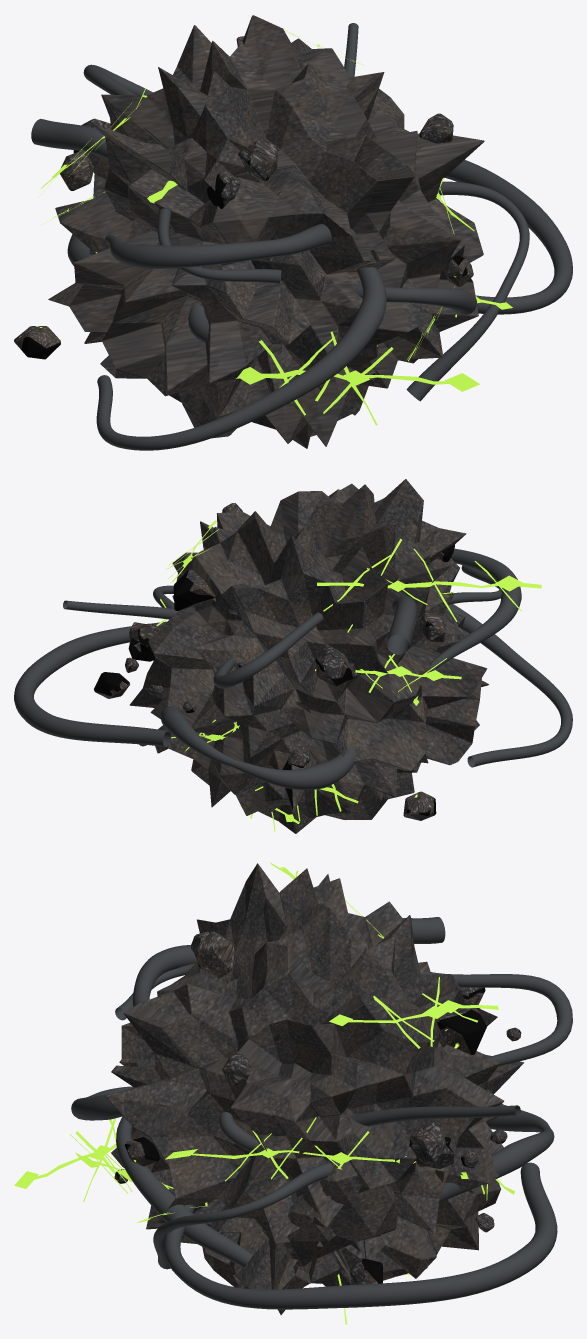
File: hero_rock.glb
3 renders of one model, top to bottom at view 1: azimuth 30°, elevation 25°; view 2: azimuth 150°, elevation 25°; view 3: azimuth 270°, elevation 25°, orthographic. The views are drawn at different scales.
Visible parts, largest first — view 1: Main_Rock, Ribbon_04, Ribbon_03, Ribbon_05, Ribbon_02, CrackGlowDecal_6, Ribbon_01, Fragment_11, Fragment_17, Fragment_07, Fragment_14, Fragment_09 (+1 smaller); view 2: Main_Rock, Ribbon_04, Ribbon_03, Ribbon_01, Ribbon_05, CrackGlowDecal_2, Ribbon_02, Fragment_04, Fragment_08, Fragment_21, CrackGlowDecal_4, Fragment_17 (+2 smaller); view 3: Main_Rock, Ribbon_04, Ribbon_05, Ribbon_02, Ribbon_03, Ribbon_01, Fragment_08, Fragment_21, CrackGlowDecal_0, Fragment_11, CrackGlowDecal_3, CrackGlowDecal_6 (+3 smaller).
Part boxes in pixels (<box>): Main_Rock: <box>48,15,484,448</box>; Ribbon_04: <box>105,160,572,314</box>; Ribbon_03: <box>96,23,386,450</box>; Ribbon_05: <box>83,64,529,401</box>; Ribbon_02: <box>31,118,477,343</box>; CrackGlowDecal_6: <box>236,331,479,425</box>; Ribbon_01: <box>67,208,281,283</box>; Fragment_11: <box>238,140,277,181</box>; Fragment_17: <box>14,326,60,359</box>; Fragment_07: <box>60,150,93,190</box>; Fragment_14: <box>207,171,239,208</box>; Fragment_09: <box>419,113,453,143</box>; Main_Rock: <box>129,479,488,833</box>; Ribbon_04: <box>14,548,521,746</box>; Ribbon_03: <box>63,600,572,767</box>; Ribbon_01: <box>160,565,501,789</box>; Ribbon_05: <box>153,585,323,688</box>; CrackGlowDecal_2: <box>317,539,541,632</box>; Ribbon_02: <box>387,596,416,654</box>; Fragment_04: <box>315,643,355,686</box>; Fragment_08: <box>173,569,215,610</box>; Fragment_21: <box>128,622,160,661</box>; CrackGlowDecal_4: <box>315,654,461,692</box>; Fragment_17: <box>403,791,436,820</box>; Main_Rock: <box>105,863,524,1314</box>; Ribbon_04: <box>132,945,557,1309</box>; Ribbon_05: <box>153,971,572,1269</box>; Ribbon_02: <box>116,917,445,1267</box>; Ribbon_03: <box>71,1086,520,1152</box>; Ribbon_01: <box>115,963,554,1202</box>; Fragment_08: <box>437,1008,486,1055</box>; Fragment_21: <box>409,1122,454,1168</box>; CrackGlowDecal_0: <box>329,977,498,1048</box>; Fragment_11: <box>196,931,236,978</box>; CrackGlowDecal_3: <box>183,1117,416,1181</box>; CrackGlowDecal_6: <box>14,1118,116,1202</box>.
Size of the model in its own units: 4.84 by 3.49 by 4.41.
5 materials, 3 textured.
